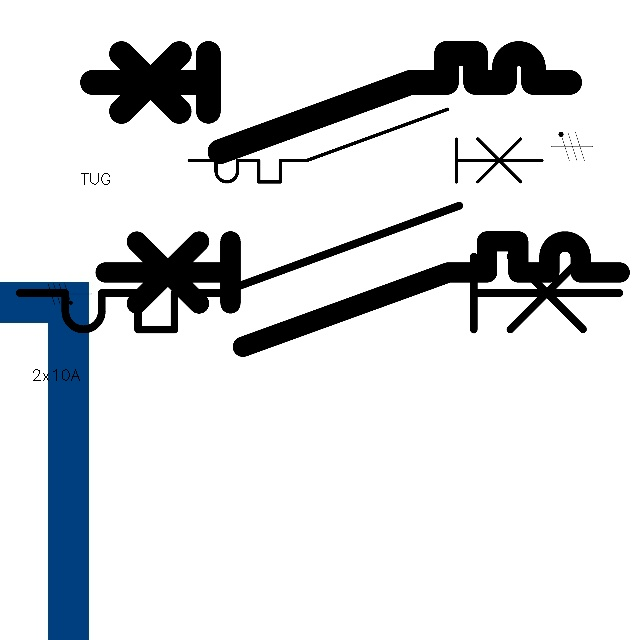interruptor_termomagnetico: (4, 190, 635, 345), (92, 228, 633, 360), (80, 41, 582, 164), (180, 100, 550, 191)
